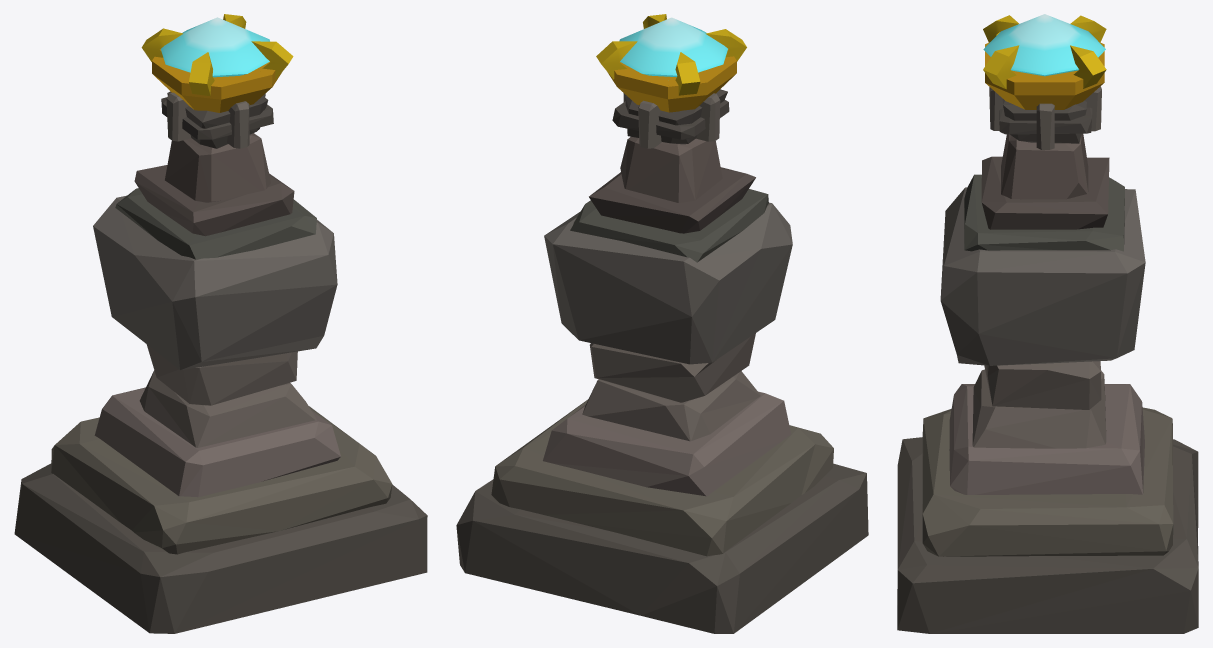
File: um_wall001.FBX
The picture shows the model from 3 angles, left to right: view 1: azimuth 30°, elevation 25°; view 2: azimuth 150°, elevation 25°; view 3: azimuth 270°, elevation 25°; orthographic projection. The views are drawn at different scales.
Visible parts, largest first — view 1: um_wall001; view 2: um_wall001; view 3: um_wall001.
Part boxes in pixels (left/top/right/bottom): um_wall001: left=14, top=14, right=427, bottom=633; um_wall001: left=456, top=14, right=868, bottom=633; um_wall001: left=897, top=14, right=1198, bottom=633.
Size of the model in its own units: 1.62 by 2.98 by 1.49.
